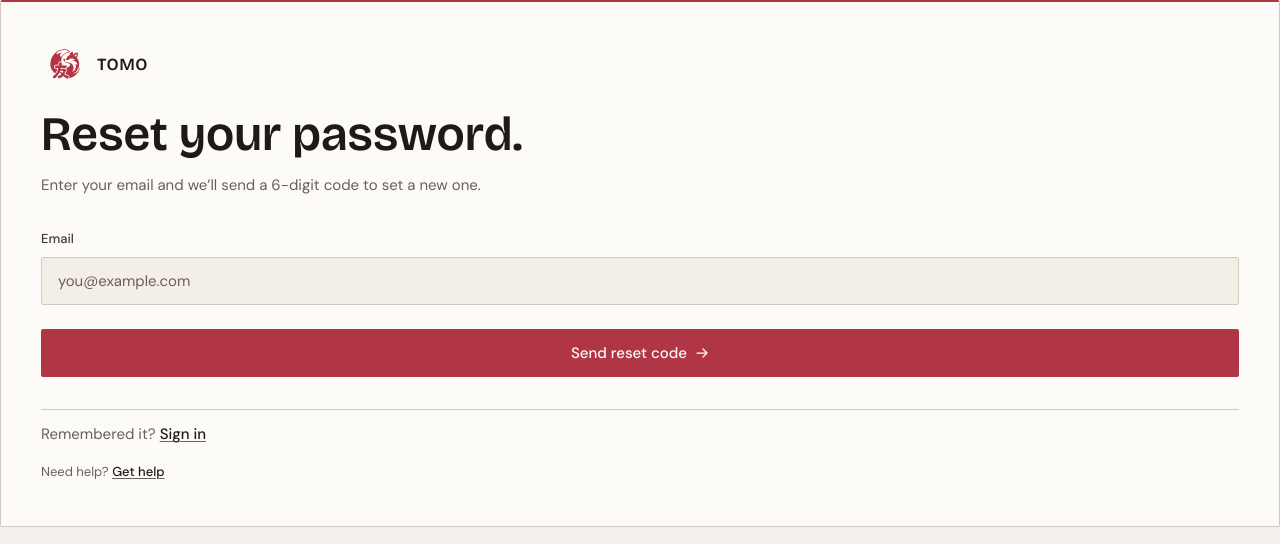
Test: forgotPasswordPage › verify view › returns to the request view when the back button is clicked
Type "user@example.com" into the field labelled "Email".
click(640, 281); type("user@example.com")  # box [41,257,1239,305]
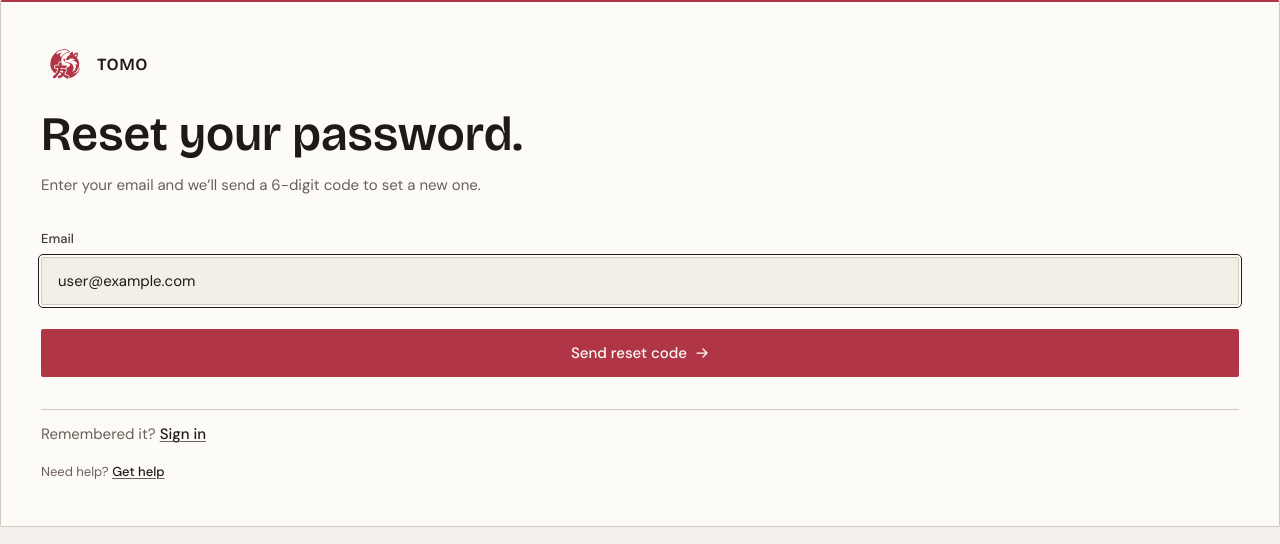
Click the button "Send reset code".
click(640, 353)  # box [41,329,1239,377]
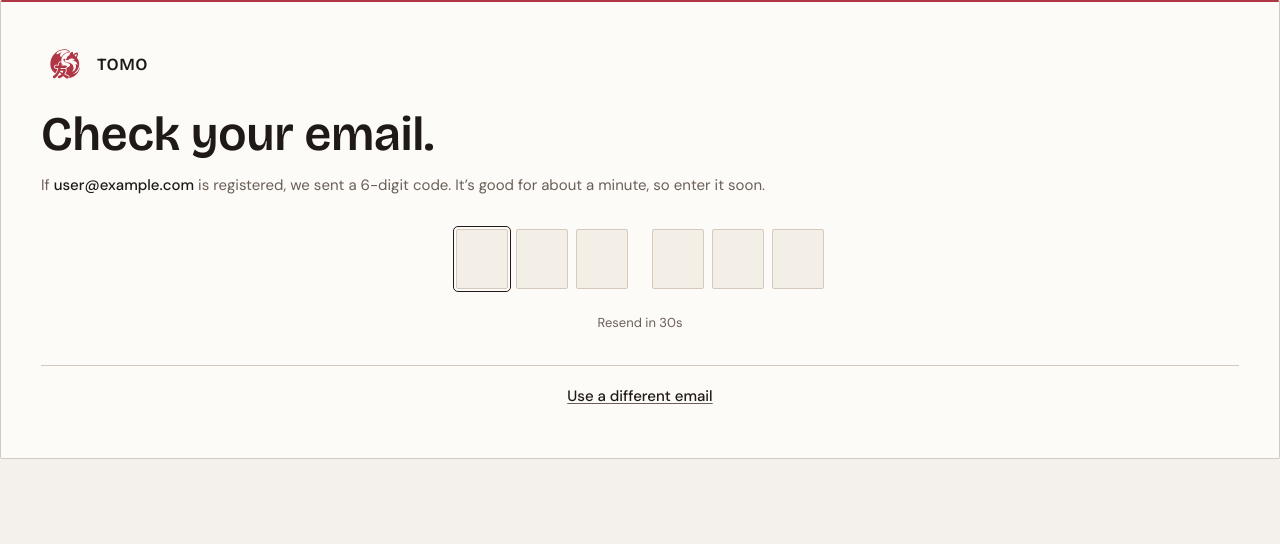
Check: the heading "Check your email." is shown, box [41,105,434,163]
Click the button "Use a different email".
click(640, 396)  # box [567,374,713,418]
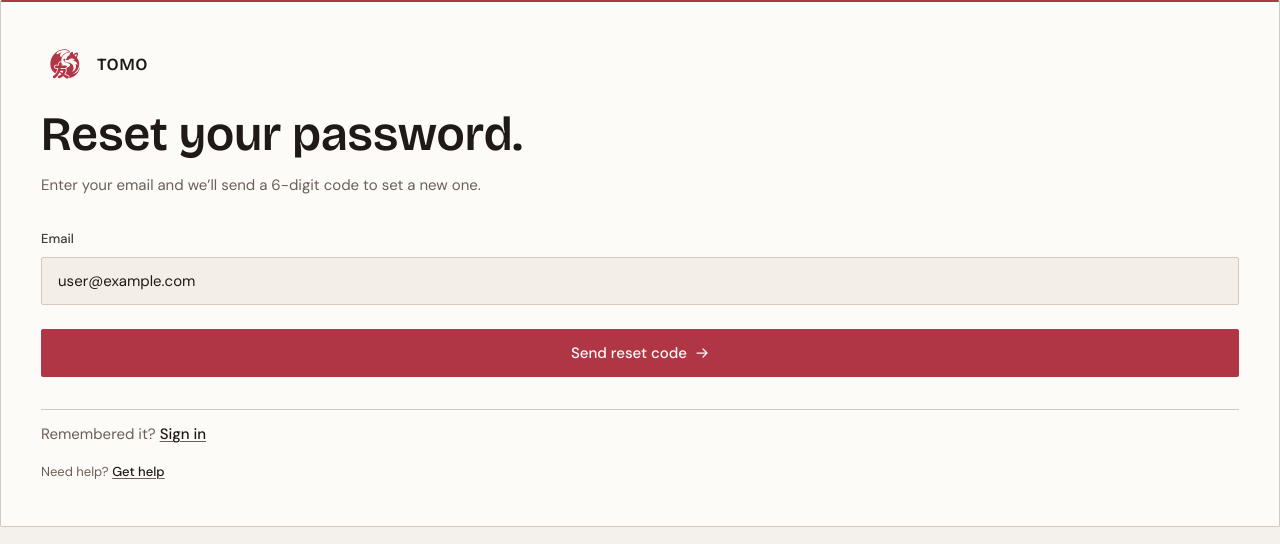
Check: the heading "Reset your password." is shown, box [41,105,522,163]
